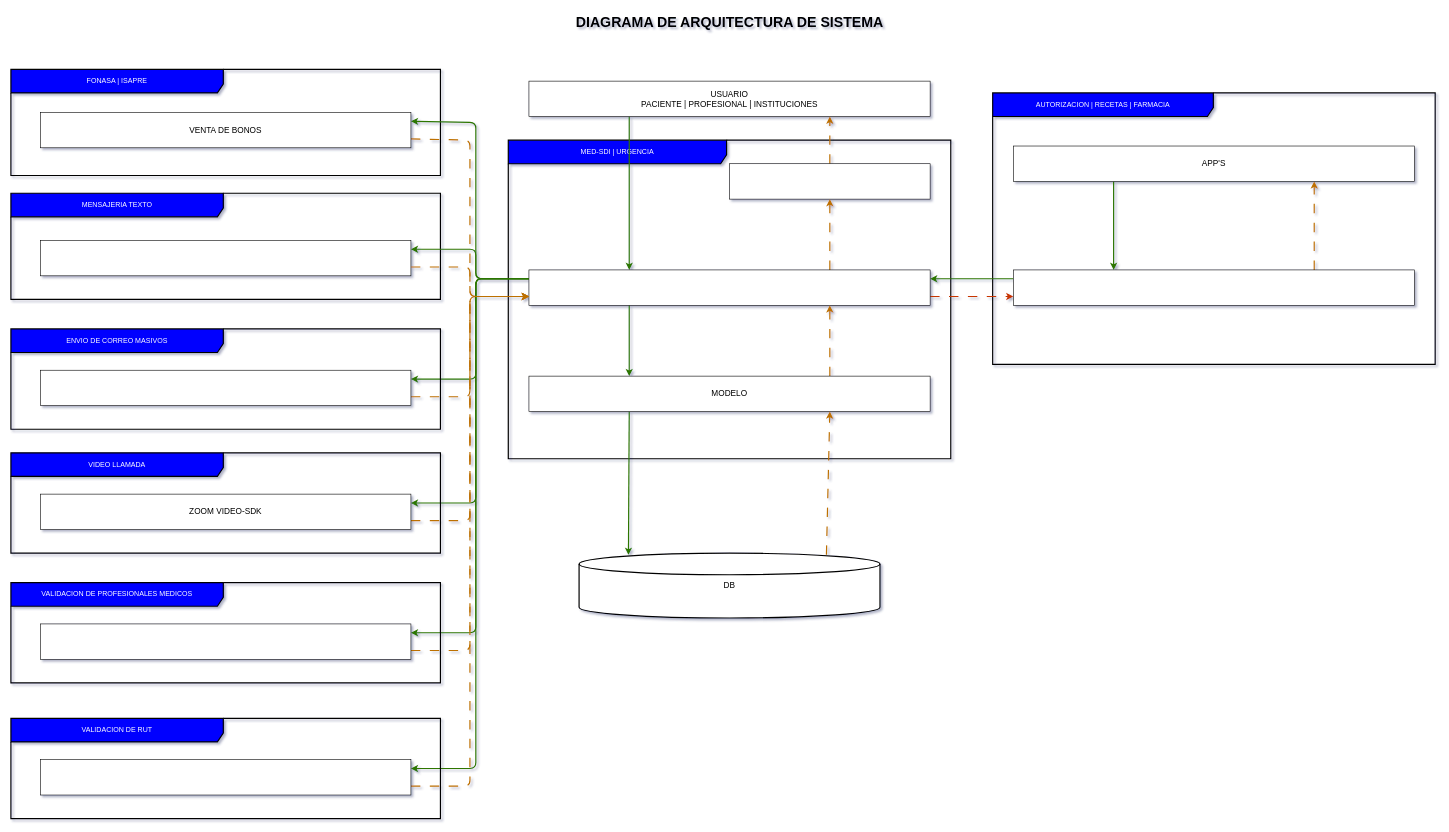
This 1449x832 diagram has some shape labels left out. Each missing label, with the centre of its shape:
API: point (1214, 287)
API CORREO: point (225, 388)
API MENSAJERIA TEXTO: point (225, 258)
API REGISTRO CIVIL: point (225, 777)
API SEREMI: point (225, 641)
CONTROLADOR: point (729, 287)
VISTAS: point (829, 181)
